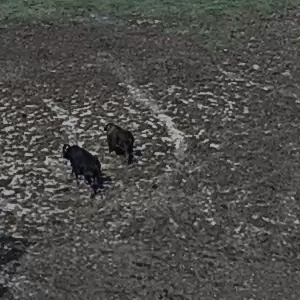cow: (44, 131, 107, 206), (95, 115, 148, 167)
